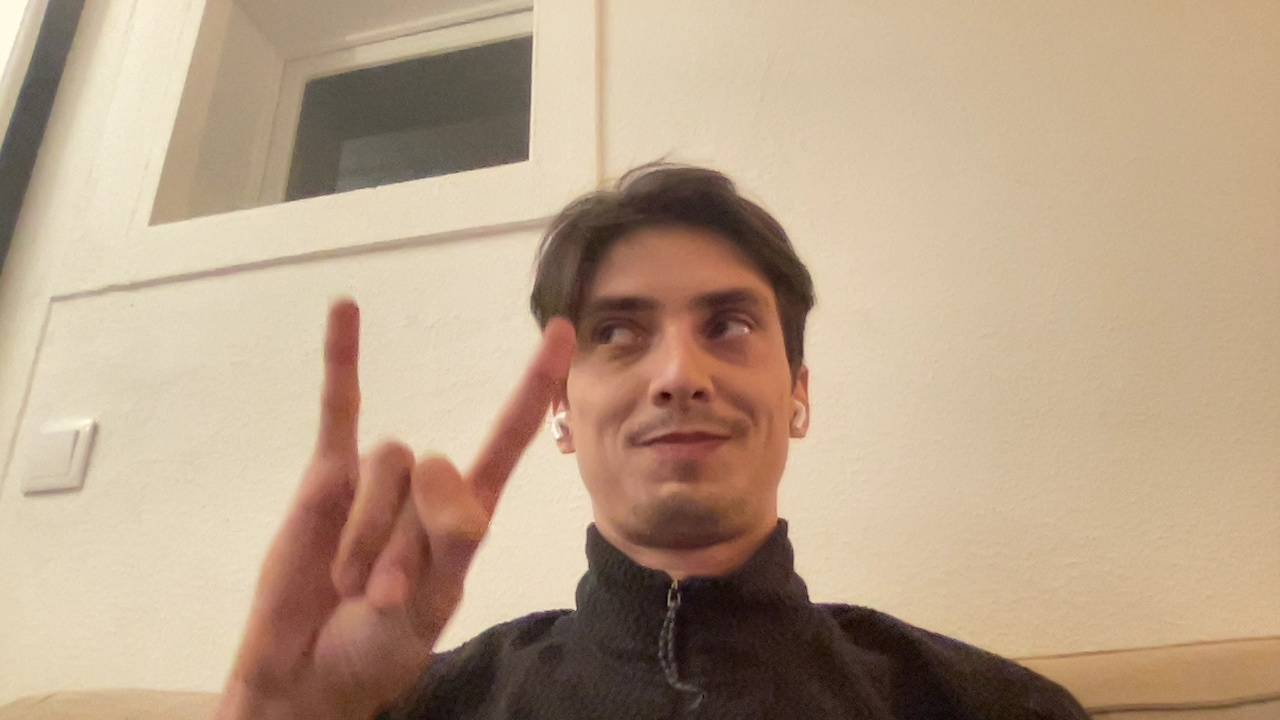I Love You: (198, 259, 616, 712)
